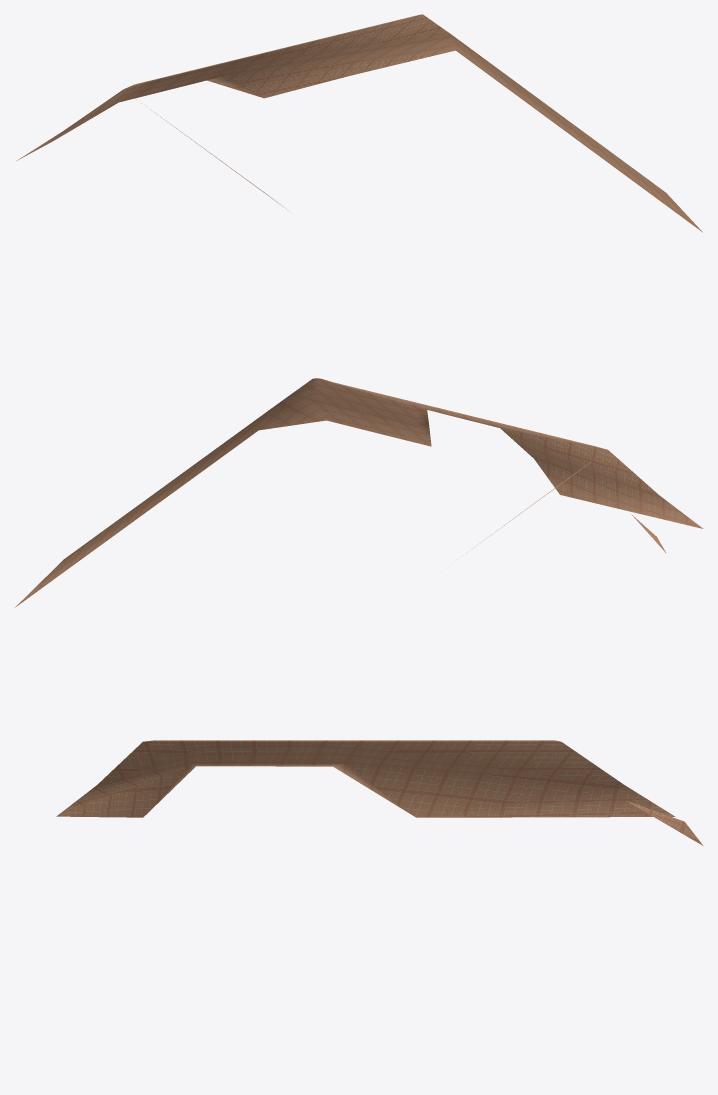
The model's file is kd_stage_135b75_4_133.glb.
3 views of the same model, one above another, from view 1: azimuth 30°, elevation 25°; view 2: azimuth 150°, elevation 25°; view 3: azimuth 270°, elevation 25° (orthographic). The views are drawn at different scales.
Parts seen in each view (by area): view 1: kd_stage_135b75_4_133; view 2: kd_stage_135b75_4_133; view 3: kd_stage_135b75_4_133.
Part boxes in pixels (box(x1,y1,x2,y2)): kd_stage_135b75_4_133: box(16, 14, 702, 232); kd_stage_135b75_4_133: box(15, 378, 703, 607); kd_stage_135b75_4_133: box(56, 740, 703, 845).
Bounding box in the file's own units: 1.74 × 0.3559 × 1.88.
1 material, 1 textured.
